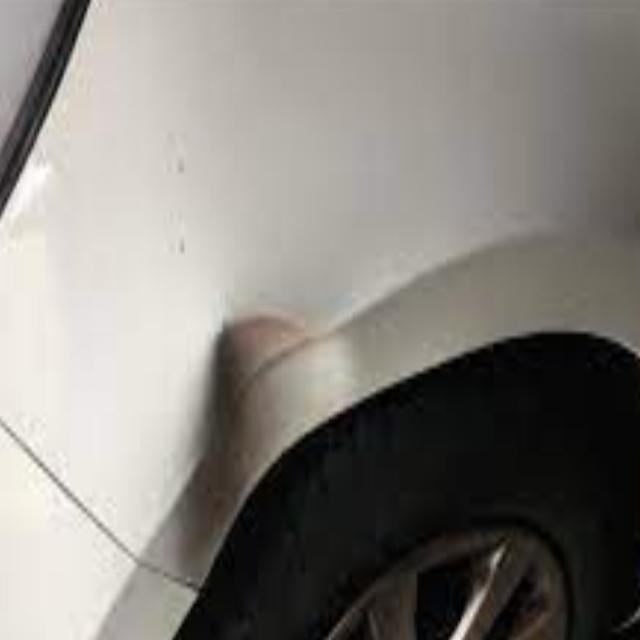dents: (148, 307, 360, 629)
